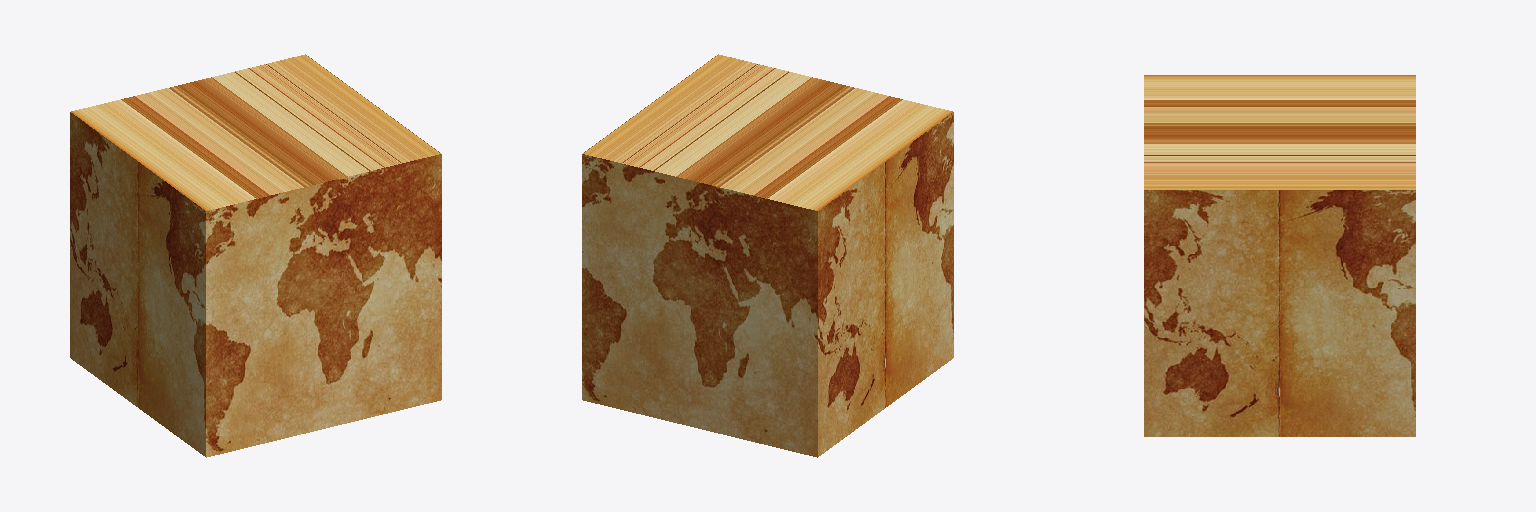
The picture shows the model from 3 angles: view 1: azimuth 30°, elevation 25°; view 2: azimuth 150°, elevation 25°; view 3: azimuth 270°, elevation 25°; orthographic projection.
Parts seen in each view (by area): view 1: pCube1; view 2: pCube1; view 3: pCube1.
Boxes of the visible parts, x1,y1,x2,y2 form: pCube1: [70, 54, 441, 457]; pCube1: [582, 54, 953, 457]; pCube1: [1144, 75, 1415, 436].
Size of the model in its own units: 1.98 by 1.98 by 1.98.
Materials: 1 (1 with a texture image).